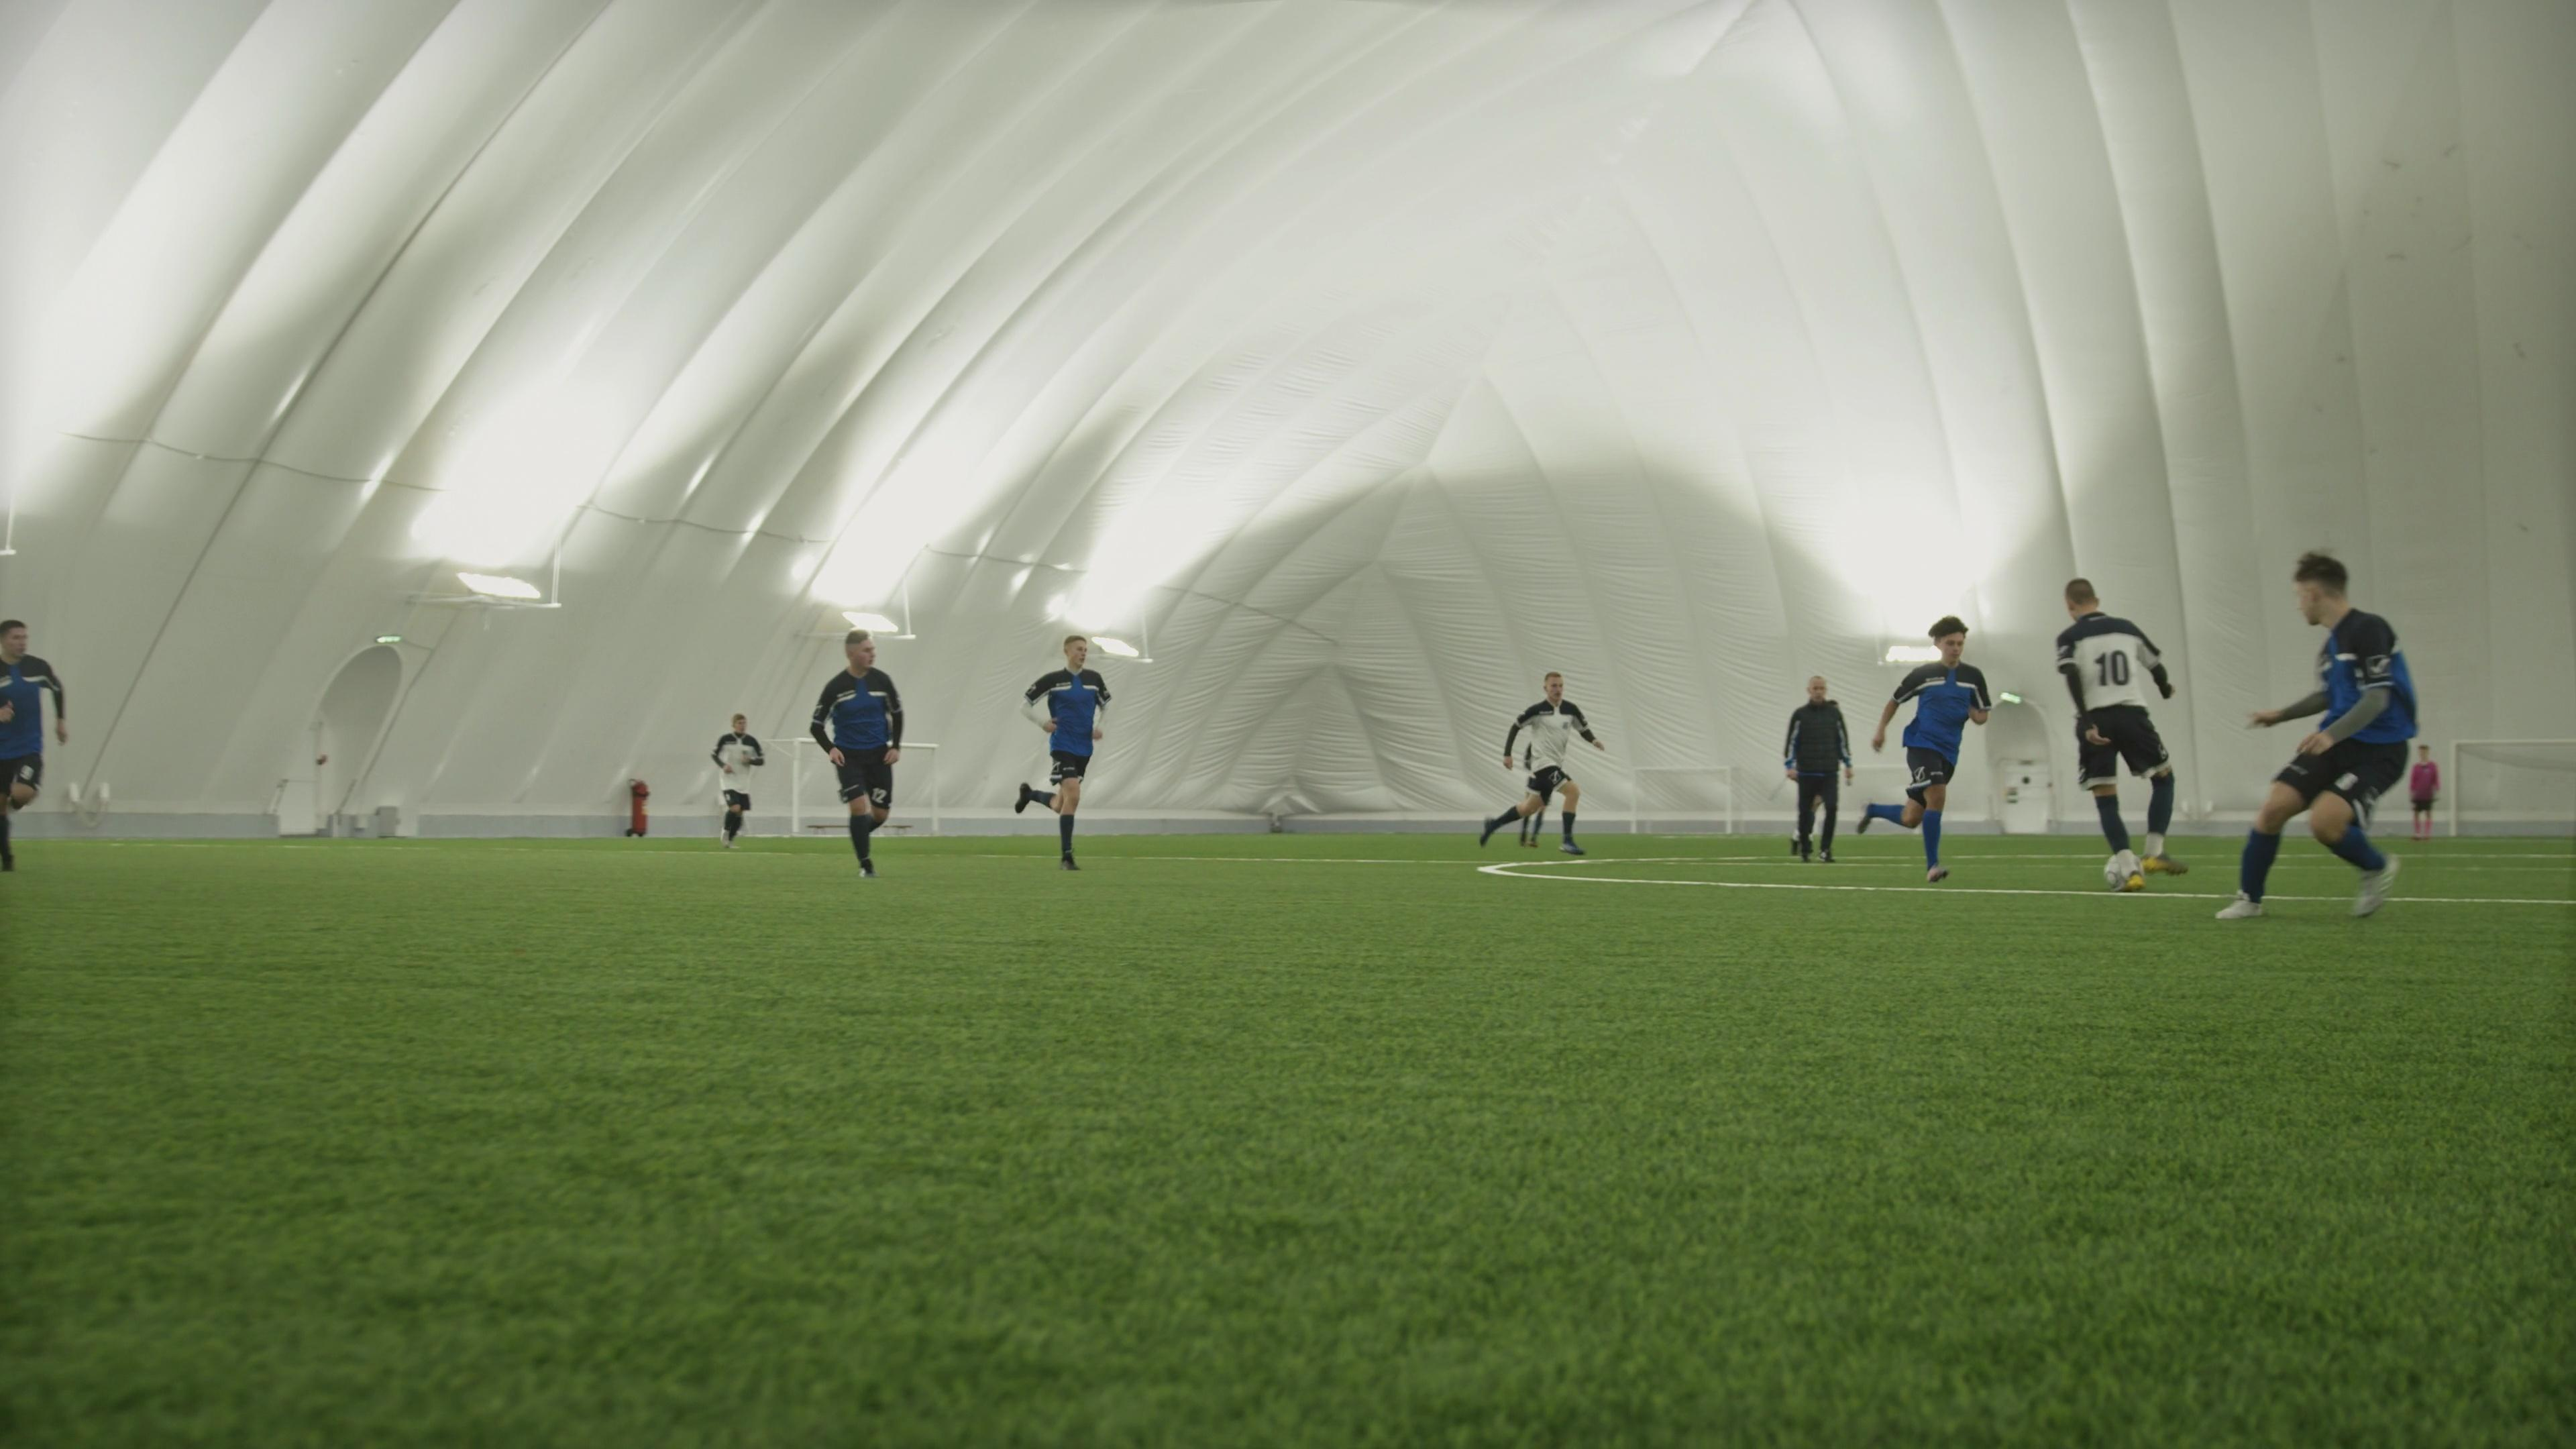other: (1783, 676, 1851, 863)
team1: (2219, 548, 2420, 924), (1879, 614, 1992, 885), (810, 633, 906, 885), (1023, 635, 1113, 870), (0, 614, 67, 874)
team2: (2051, 577, 2185, 890), (1488, 672, 1608, 853), (709, 708, 770, 847)
